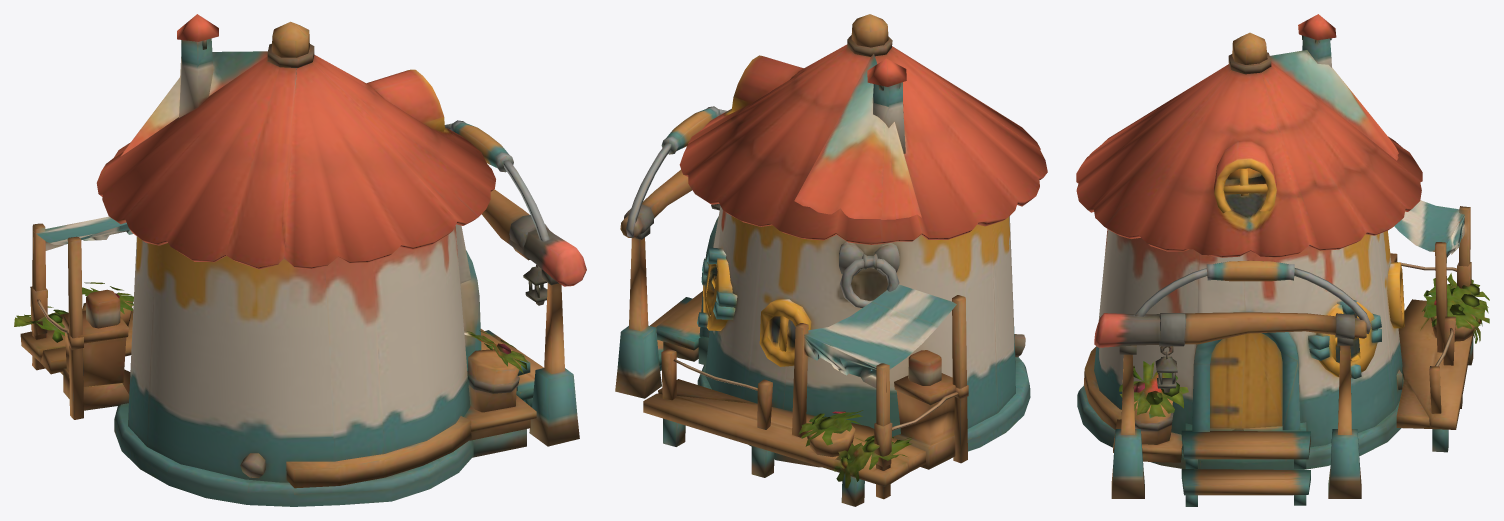
The model's file is c77d3e1f-paint-hut-web.glb.
The picture shows the model from 3 angles, left to right: view 1: azimuth 30°, elevation 25°; view 2: azimuth 150°, elevation 25°; view 3: azimuth 270°, elevation 25°; orthographic projection. The views are drawn at different scales.
Parts seen in each view (by area): view 1: tripo_node_81e1a518-c214-421f-9589-8ee2c8969b90; view 2: tripo_node_81e1a518-c214-421f-9589-8ee2c8969b90; view 3: tripo_node_81e1a518-c214-421f-9589-8ee2c8969b90.
Part boxes in pixels (x1,y1,x2,y2): tripo_node_81e1a518-c214-421f-9589-8ee2c8969b90: (14, 14, 586, 506); tripo_node_81e1a518-c214-421f-9589-8ee2c8969b90: (615, 14, 1047, 506); tripo_node_81e1a518-c214-421f-9589-8ee2c8969b90: (1076, 14, 1489, 506).
Size of the model in its own units: 0.998 by 0.9902 by 0.9902.
Materials: 1 (1 with a texture image).
